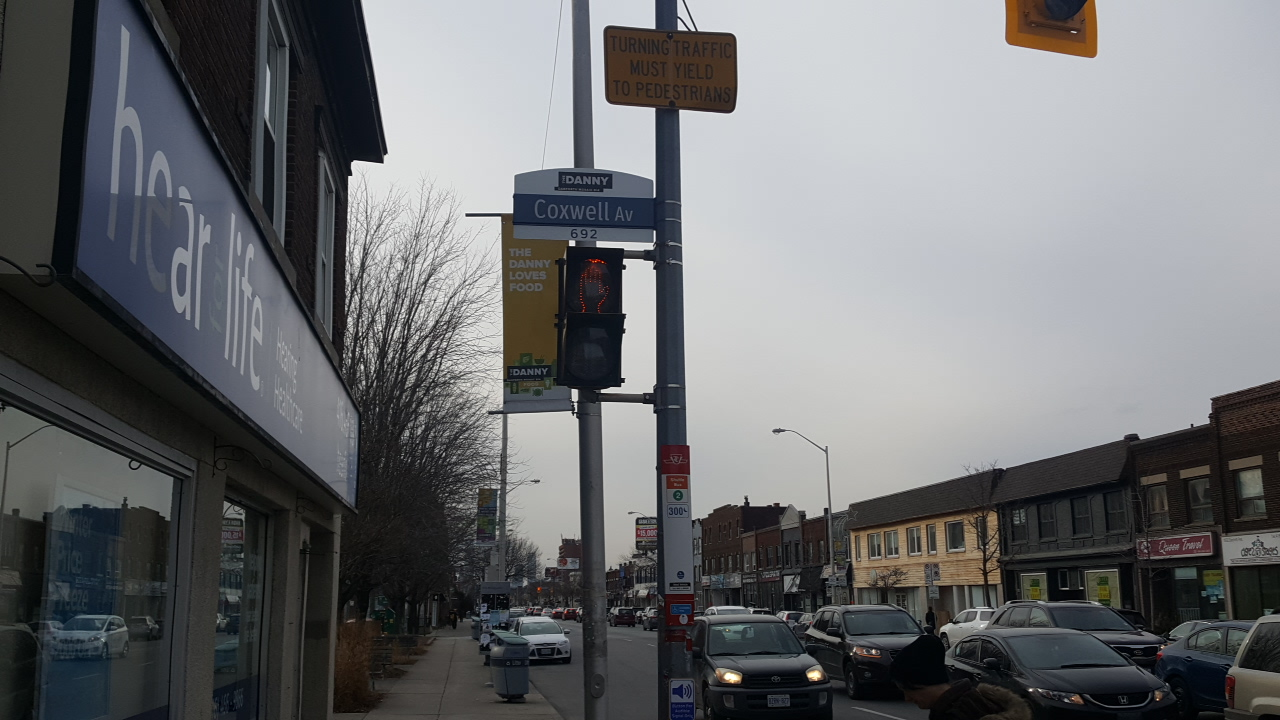light: (553, 241, 630, 391)
